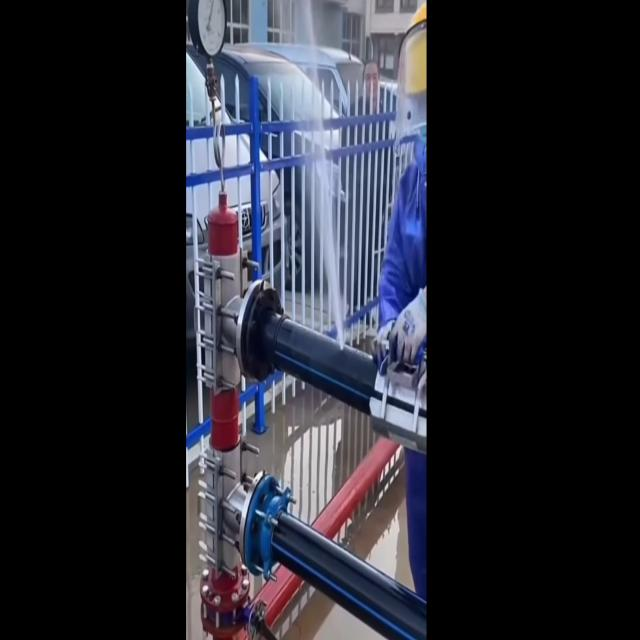leak: (314, 120, 344, 347)
